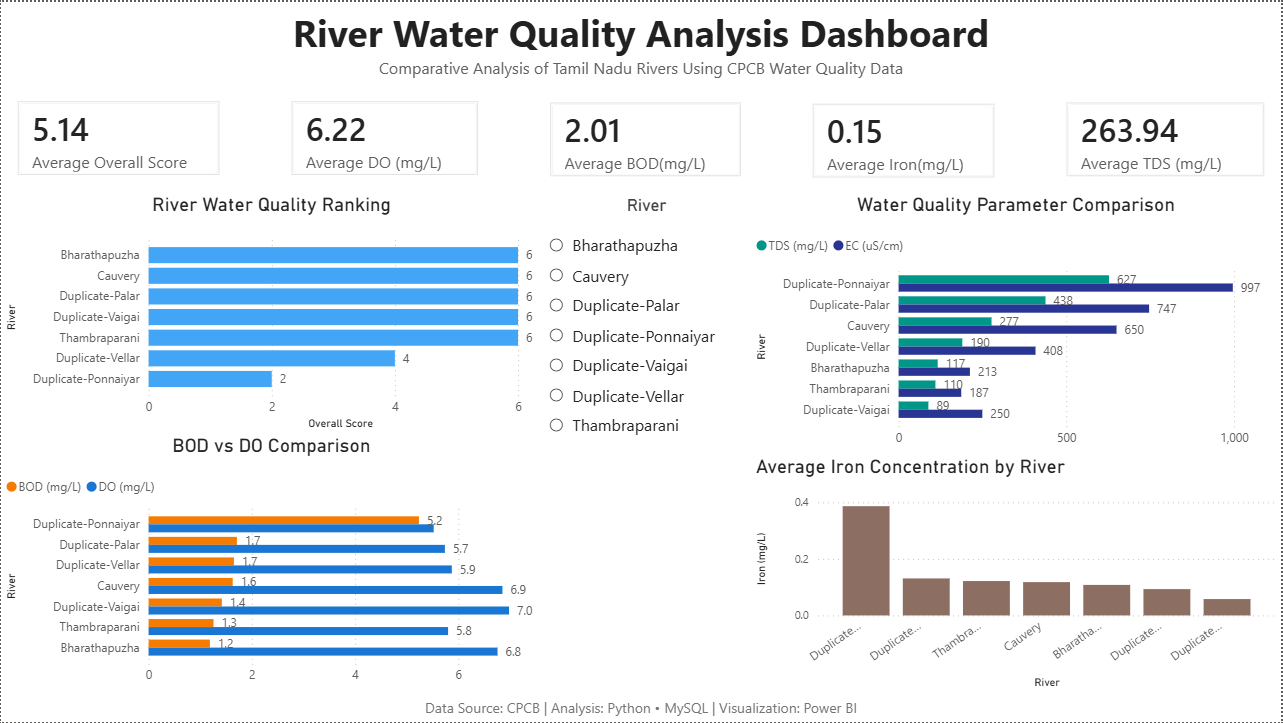

What the dashboard file says about the page in this screenshot:
{"tool":"powerbi","page":{"name":"Page 1","canvas":[1280,720],"ordinal":0},"visuals":[{"type":"clusteredBarChart","title":"River Water Quality Ranking","fields":{"Category":["river_project river_quality.River"],"Y":["Sum(river_project river_quality.Overall Score)"]},"box":[0,191.2,541.2,241.2],"z":0},{"type":"clusteredBarChart","title":"BOD vs DO Comparison","fields":{"Category":["river_project river_quality.River"],"Y":["Sum(river_project river_quality.Biochemical Oxygen Demand (mg/L))","Sum(river_project river_quality.Dissolved oxygen (mg/L))"]},"box":[0,432.5,541.2,258.8],"z":1000},{"type":"clusteredBarChart","title":"Water Quality Parameter Comparison","fields":{"Y":["Sum(river_project river_quality.Total Dissolved Solids (mg/L))","Sum(river_project river_quality.Electric Conductivity (uS/cm))"],"Category":["river_project river_quality.River"]},"box":[750,191.2,530,262.5],"z":2000},{"type":"listSlicer","fields":{"Values":["river_project river_quality.River"]},"box":[541.2,192.5,208.8,265],"z":3000},{"type":"cardVisual","fields":{"Data":["Avg(river_project river_quality.Biochemical Oxygen Demand (mg/L))"]},"box":[532.4,84,224.3,107.1],"z":4000},{"type":"cardVisual","fields":{"Data":["Avg(river_project river_quality.Dissolved oxygen (mg/L))"]},"box":[274,83,220,107.1],"z":5000},{"type":"cardVisual","fields":{"Data":["Avg(river_project river_quality.Total Dissolved Solids (mg/L))"]},"box":[1048.6,84,231.4,107.1],"z":6000},{"type":"cardVisual","fields":{"Data":["Avg(river_project river_quality.Iron(mg/L))"]},"box":[795,85,215.7,107.1],"z":7000},{"type":"cardVisual","fields":{"Data":["Avg(river_project river_quality.Overall Score)"]},"box":[0,82.9,235.7,107.1],"z":8000},{"type":"textbox","box":[0,0,1280,82.9],"z":9000},{"type":"textbox","box":[0,691.2,1280,28.8],"z":10000},{"type":"columnChart","title":"Average Iron Concentration by River","fields":{"Category":["river_project river_quality.River"],"Y":["Sum(river_project river_quality.Iron(mg/L))"]},"box":[750,453.8,530,237.5],"z":11000}]}

Visuals, with their boxes in screenshot pixels (x1, y1, x2, y2), scaled from the page's 1280x720 canvas onto the 1283x723 screenshot:
"River Water Quality Ranking" clusteredBarChart: [0,192,542,434]
"BOD vs DO Comparison" clusteredBarChart: [0,434,542,694]
"Water Quality Parameter Comparison" clusteredBarChart: [752,192,1282,456]
listSlicer - river_project river_quality.River: [542,193,752,459]
cardVisual - Avg(river_project river_quality.Biochemical Oxygen Demand (mg/L)): [534,84,758,192]
cardVisual - Avg(river_project river_quality.Dissolved oxygen (mg/L)): [275,83,495,191]
cardVisual - Avg(river_project river_quality.Total Dissolved Solids (mg/L)): [1051,84,1282,192]
cardVisual - Avg(river_project river_quality.Iron(mg/L)): [797,85,1013,193]
cardVisual - Avg(river_project river_quality.Overall Score): [0,83,236,191]
textbox: [0,0,1282,83]
textbox: [0,694,1282,722]
"Average Iron Concentration by River" columnChart: [752,456,1282,694]
